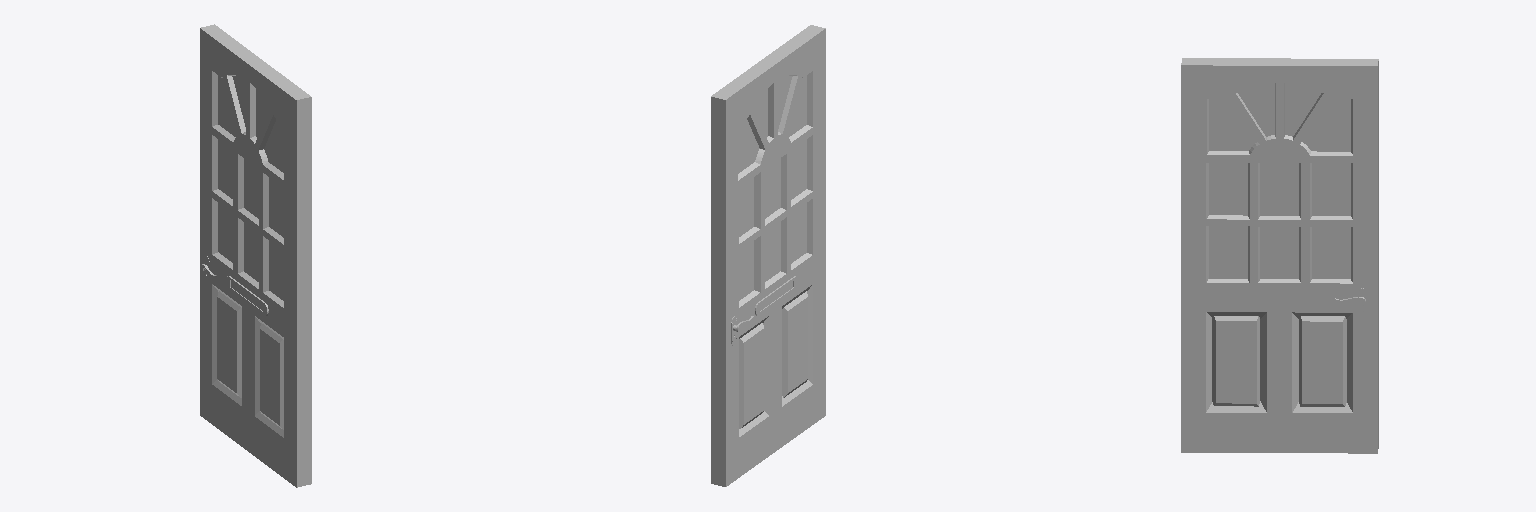
File: door2_000019.obj
3 renders of one model, left to right at view 1: azimuth 30°, elevation 25°; view 2: azimuth 150°, elevation 25°; view 3: azimuth 270°, elevation 25°, orthographic.
Visible parts, largest first — view 1: Door.000_Door.004; view 2: Door.000_Door.004; view 3: Door.000_Door.004.
Boxes of the visible parts, box(x1,y1,x2,y2) form: Door.000_Door.004: box(200, 24, 311, 487); Door.000_Door.004: box(711, 25, 825, 486); Door.000_Door.004: box(1181, 58, 1378, 453).
Size of the model in its own units: 0.1156 by 1.6 by 0.74.